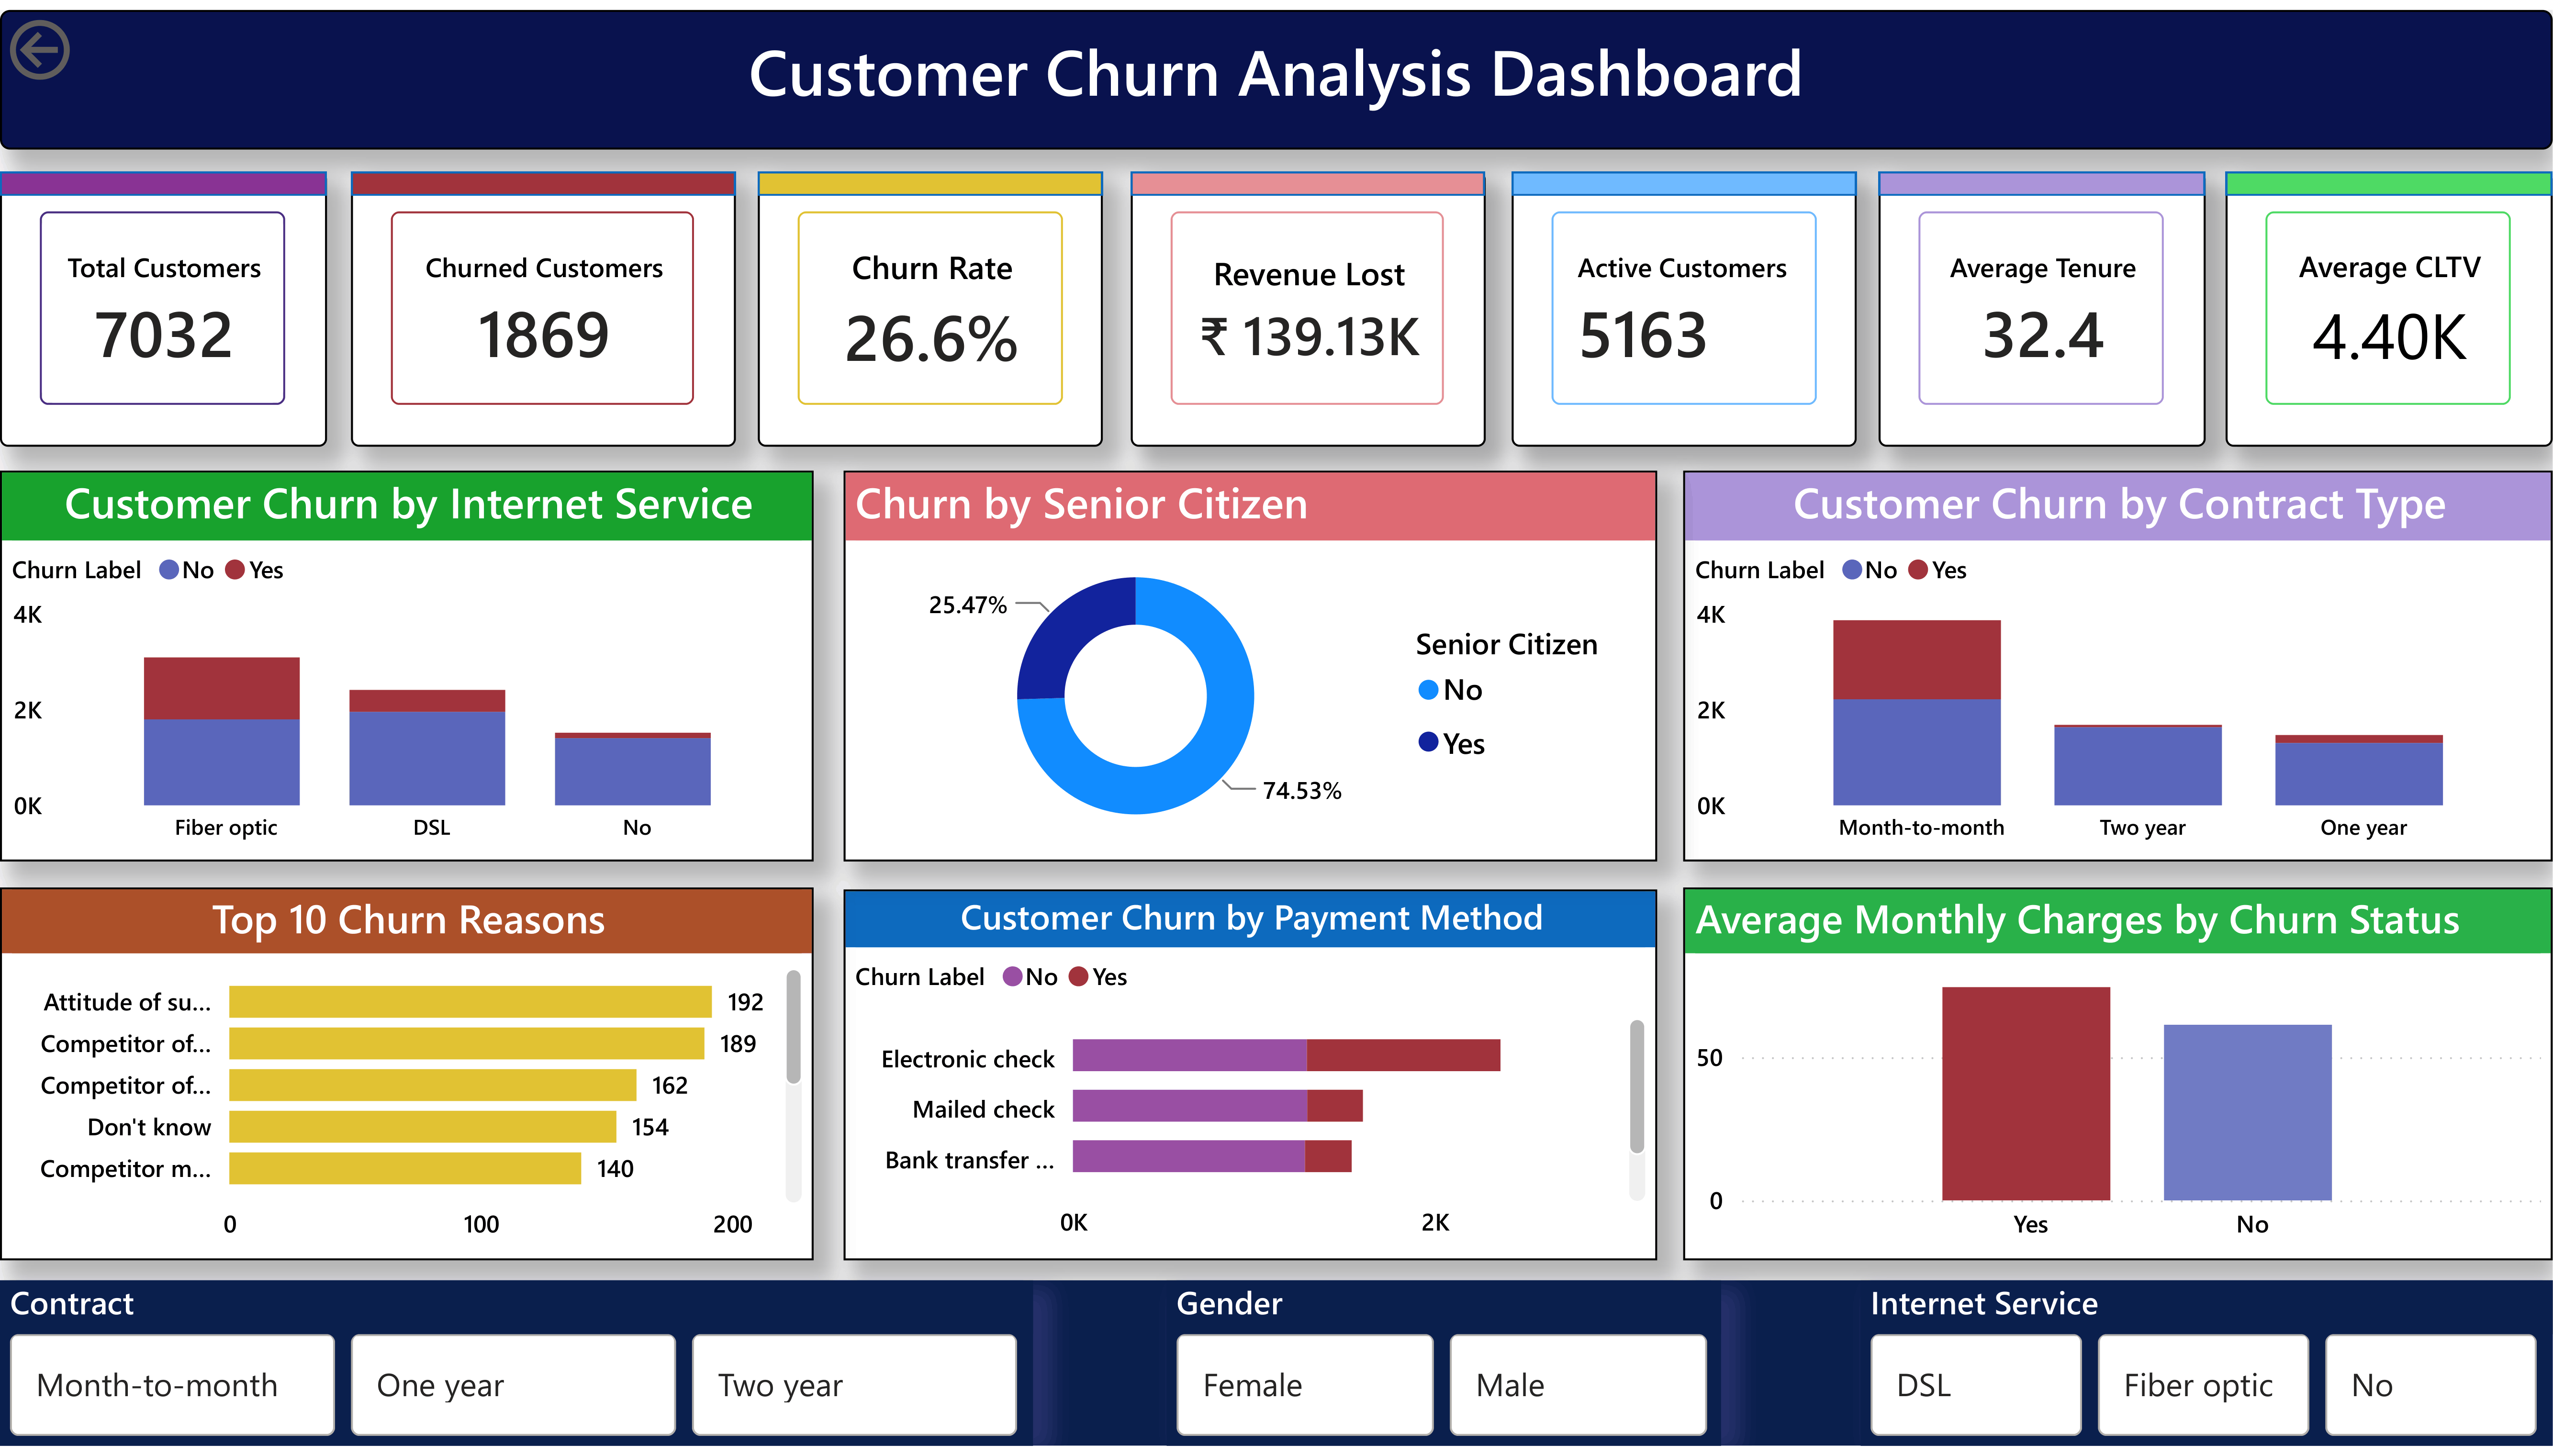

This screenshot's page, from the dashboard's own definition file:
{"tool":"powerbi","page":{"name":"Page 1","canvas":[1280,720],"ordinal":0},"visuals":[{"type":"textbox","box":[0,0,1280,70],"z":0},{"type":"cardVisual","fields":{"Data":["telco_customer_churn_clean.Total Customers"]},"box":[0,81.2,163.8,137.8],"z":1000},{"type":"shape","box":[0,81.2,163.8,12.2],"z":2000},{"type":"cardVisual","fields":{"Data":["telco_customer_churn_clean.Churned Customers"]},"box":[176.1,81.2,192.9,137.8],"z":3000},{"type":"shape","box":[176.1,81.2,192.9,12.2],"z":4000},{"type":"cardVisual","fields":{"Data":["telco_customer_churn_clean.Churn Rate"]},"box":[379.7,81.2,173,137.8],"z":5000},{"type":"shape","box":[379.7,81.2,173,12.2],"z":6000},{"type":"cardVisual","fields":{"Data":["telco_customer_churn_clean.Revenue Lost"]},"box":[566.5,81.2,177.6,137.8],"z":7000},{"type":"shape","box":[566.5,81.2,177.6,12.2],"z":8000},{"type":"cardVisual","fields":{"Data":["telco_customer_churn_clean.Active Customers"]},"box":[757.9,81.2,173,137.8],"z":9000},{"type":"shape","box":[757.9,81.2,173,12.2],"z":10000},{"type":"cardVisual","fields":{"Data":["telco_customer_churn_clean.Average Tenure"]},"box":[941.6,81.2,163.8,137.8],"z":11000},{"type":"shape","box":[941.6,81.2,163.8,12.2],"z":12000},{"type":"cardVisual","fields":{"Data":["telco_customer_churn_clean.Average CLTV"]},"box":[1116.2,81.2,163.8,137.8],"z":13000},{"type":"shape","box":[1116.2,81.2,163.8,12.2],"z":14000},{"type":"columnChart","title":" Customer Churn by Contract Type","fields":{"Category":["telco_customer_churn_clean.Contract"],"Y":["CountNonNull(telco_customer_churn_clean.CustomerID)"],"Series":["telco_customer_churn_clean.Churn Label"]},"box":[844,230.8,436,196.3],"z":15000},{"type":"columnChart","title":" Customer Churn by Internet Service","fields":{"Y":["CountNonNull(telco_customer_churn_clean.CustomerID)"],"Series":["telco_customer_churn_clean.Churn Label"],"Category":["telco_customer_churn_clean.Internet Service"]},"box":[0,230.8,408,196.3],"z":16000},{"type":"barChart","title":" Customer Churn by  Payment Method","fields":{"Category":["telco_customer_churn_clean.Payment Method"],"Y":["CountNonNull(telco_customer_churn_clean.CustomerID)"],"Series":["telco_customer_churn_clean.Churn Label"]},"box":[423.3,441.1,408,186.1],"z":17000},{"type":"clusteredBarChart","title":"Top 10 Churn Reasons","fields":{"Category":["telco_customer_churn_clean.Churn Reason"],"Y":["CountNonNull(telco_customer_churn_clean.CustomerID)"]},"box":[0,439.8,408,187.4],"z":18000},{"type":"donutChart","title":"Churn by Senior Citizen","fields":{"Category":["telco_customer_churn_clean.Senior Citizen"],"Y":["CountNonNull(telco_customer_churn_clean.CustomerID)"]},"box":[423.3,230.8,408,196.3],"z":19000},{"type":"actionButton","box":[0,0,100,40],"z":20000},{"type":"clusteredColumnChart","title":"Average Monthly Charges by Churn Status","fields":{"Category":["telco_customer_churn_clean.Churn Label"],"Y":["Avg(telco_customer_churn_clean.Monthly Charges)"]},"box":[844,439.8,436,187.4],"z":21000},{"type":"shape","box":[0,637.5,1280,82.9],"z":22000},{"type":"advancedSlicerVisual","fields":{"Values":["telco_customer_churn_clean.Gender"]},"box":[585.2,637.5,277.9,82.9],"z":25000},{"type":"advancedSlicerVisual","fields":{"Values":["telco_customer_churn_clean.Internet Service"]},"box":[933.2,637.5,346.8,82.9],"z":26000},{"type":"advancedSlicerVisual","fields":{"Values":["telco_customer_churn_clean.Contract"]},"box":[0,637.5,517.6,82.9],"z":26001}]}

Visuals, with their boxes in screenshot pixels (x1, y1, x2, y2), scaled from the page's 1280x720 canvas onto the 2553x1456 screenshot:
textbox: (x1=0, y1=0, x2=2553, y2=142)
cardVisual - telco_customer_churn_clean.Total Customers: (x1=0, y1=164, x2=327, y2=443)
shape: (x1=0, y1=164, x2=327, y2=189)
cardVisual - telco_customer_churn_clean.Churned Customers: (x1=351, y1=164, x2=736, y2=443)
shape: (x1=351, y1=164, x2=736, y2=189)
cardVisual - telco_customer_churn_clean.Churn Rate: (x1=757, y1=164, x2=1102, y2=443)
shape: (x1=757, y1=164, x2=1102, y2=189)
cardVisual - telco_customer_churn_clean.Revenue Lost: (x1=1130, y1=164, x2=1484, y2=443)
shape: (x1=1130, y1=164, x2=1484, y2=189)
cardVisual - telco_customer_churn_clean.Active Customers: (x1=1512, y1=164, x2=1857, y2=443)
shape: (x1=1512, y1=164, x2=1857, y2=189)
cardVisual - telco_customer_churn_clean.Average Tenure: (x1=1878, y1=164, x2=2205, y2=443)
shape: (x1=1878, y1=164, x2=2205, y2=189)
cardVisual - telco_customer_churn_clean.Average CLTV: (x1=2226, y1=164, x2=2553, y2=443)
shape: (x1=2226, y1=164, x2=2553, y2=189)
" Customer Churn by Contract Type" columnChart: (x1=1683, y1=467, x2=2553, y2=863)
" Customer Churn by Internet Service" columnChart: (x1=0, y1=467, x2=814, y2=863)
" Customer Churn by  Payment Method" barChart: (x1=844, y1=892, x2=1658, y2=1268)
"Top 10 Churn Reasons" clusteredBarChart: (x1=0, y1=889, x2=814, y2=1268)
"Churn by Senior Citizen" donutChart: (x1=844, y1=467, x2=1658, y2=863)
actionButton: (x1=0, y1=0, x2=200, y2=81)
"Average Monthly Charges by Churn Status" clusteredColumnChart: (x1=1683, y1=889, x2=2553, y2=1268)
shape: (x1=0, y1=1289, x2=2553, y2=1456)
advancedSlicerVisual - telco_customer_churn_clean.Gender: (x1=1167, y1=1289, x2=1722, y2=1456)
advancedSlicerVisual - telco_customer_churn_clean.Internet Service: (x1=1861, y1=1289, x2=2553, y2=1456)
advancedSlicerVisual - telco_customer_churn_clean.Contract: (x1=0, y1=1289, x2=1032, y2=1456)
